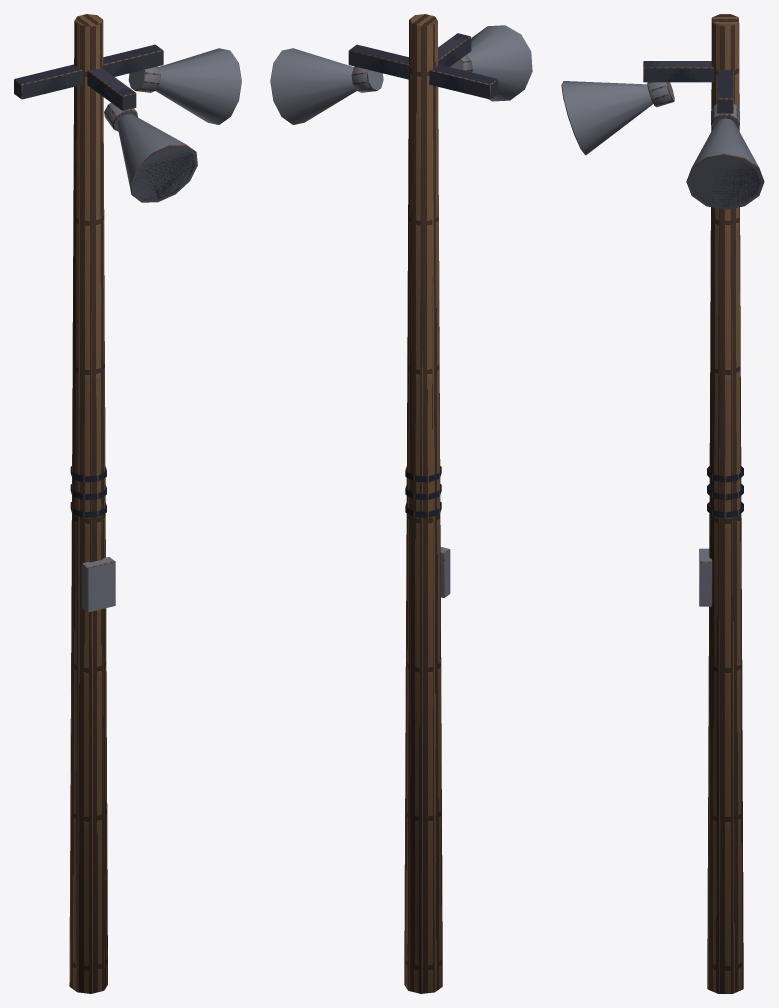
File: cn_loudspeaker_pole_0.glb
The picture shows the model from 3 angles, left to right: view 1: azimuth 30°, elevation 25°; view 2: azimuth 150°, elevation 25°; view 3: azimuth 270°, elevation 25°; orthographic projection.
Visible parts, largest first — view 1: cn_loudspeaker_pole_1; view 2: cn_loudspeaker_pole_1; view 3: cn_loudspeaker_pole_1.
Boxes of the visible parts, x1,y1,x2,y2 form: cn_loudspeaker_pole_1: (14,14,241,993); cn_loudspeaker_pole_1: (270,14,532,993); cn_loudspeaker_pole_1: (561,14,764,993).
Bounding box in the file's own units: 1.5 × 6.5 × 1.24.
5 materials, 5 textured.
